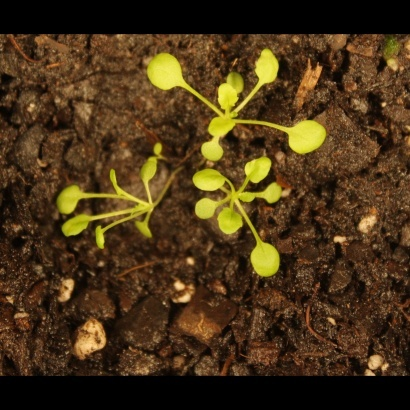leaf: (145, 49, 191, 97), (280, 115, 328, 157), (249, 49, 288, 89), (246, 240, 286, 279), (187, 165, 231, 197), (51, 182, 90, 217), (238, 149, 275, 185), (208, 82, 243, 114), (206, 111, 243, 140), (61, 211, 95, 240), (217, 206, 245, 239), (191, 195, 221, 225), (136, 155, 164, 187), (105, 166, 131, 200), (260, 178, 287, 210), (220, 67, 249, 95), (199, 138, 231, 163), (88, 225, 115, 252), (130, 215, 154, 243), (150, 134, 173, 157), (233, 187, 256, 210)
